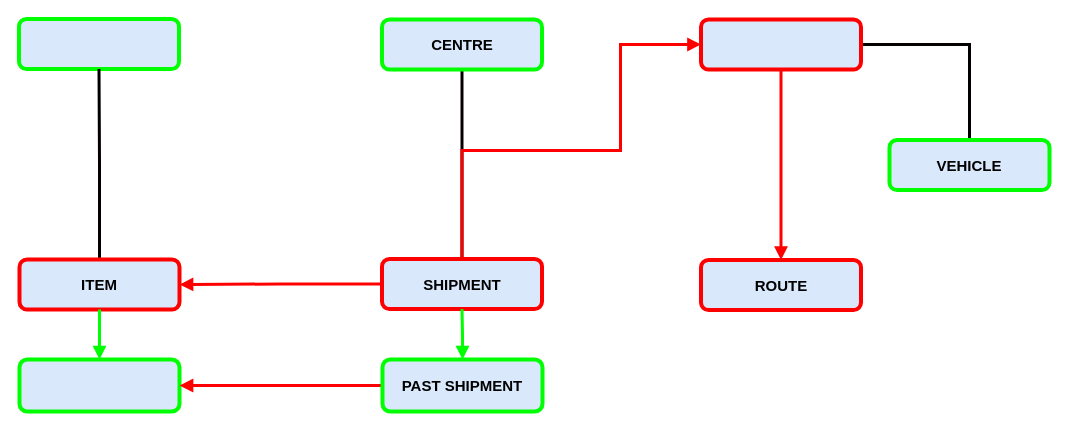
Image size: 1069x431. Some labels were removed from this diagram. The centre of each missing label's shape, as x and y in pixels:
"DEALER" belongs at point 98,43.
"EVENT" belongs at point 780,44.
"PAST ITEM" belongs at point 99,385.
